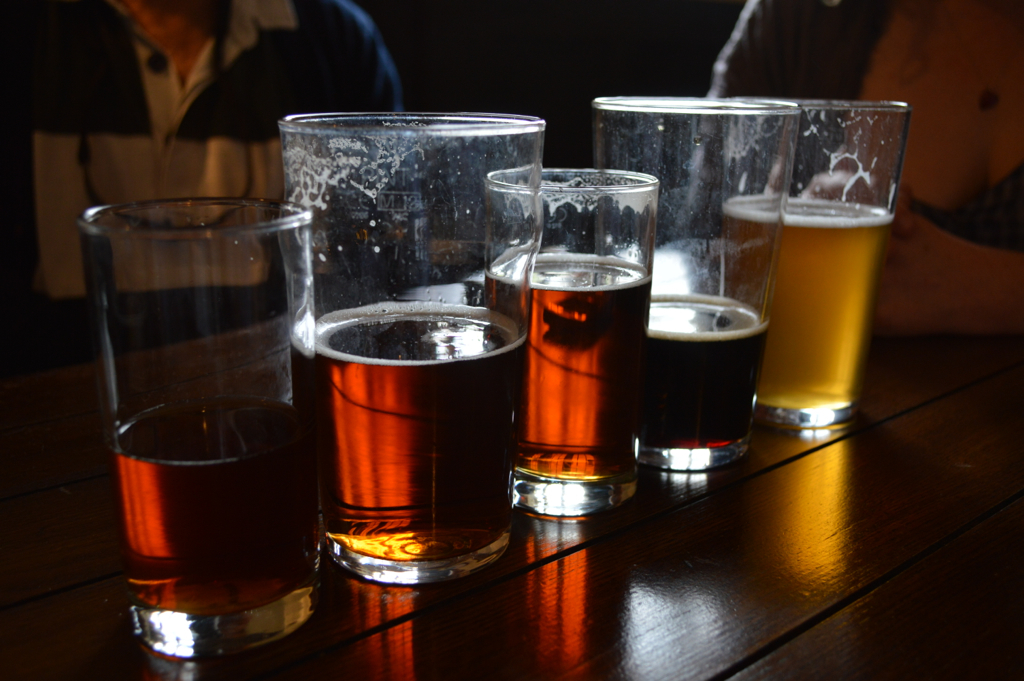Beer: (300, 300, 522, 562), (113, 400, 312, 613), (476, 254, 647, 478), (716, 195, 890, 415), (641, 289, 766, 456)
